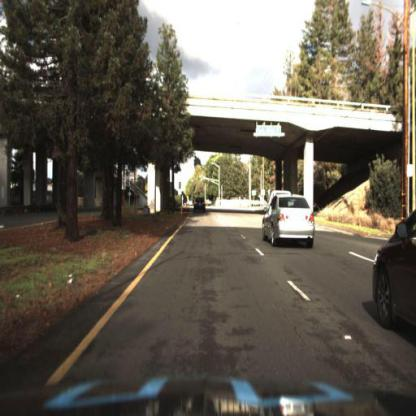car: (372, 196, 416, 337), (262, 191, 321, 243), (193, 194, 211, 217)
